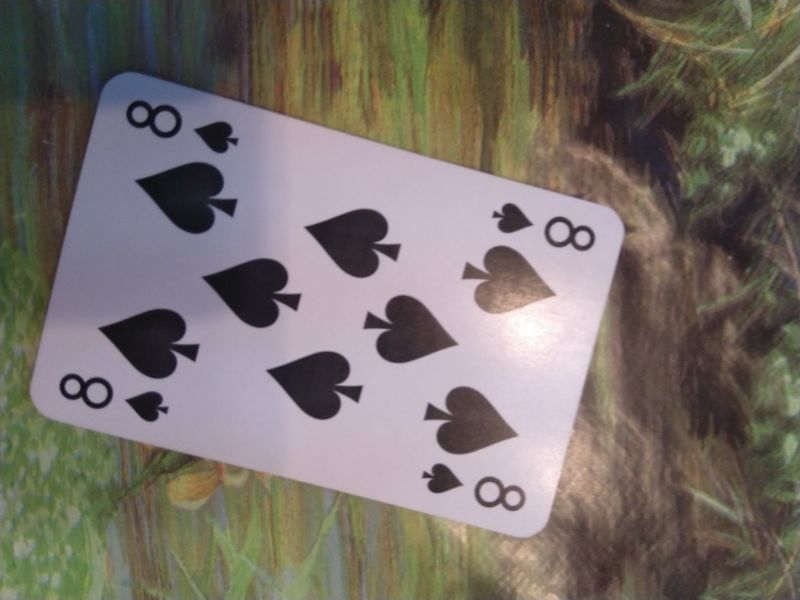8s: (121, 92, 244, 156), (52, 369, 175, 427), (418, 457, 530, 516), (488, 197, 599, 253)
